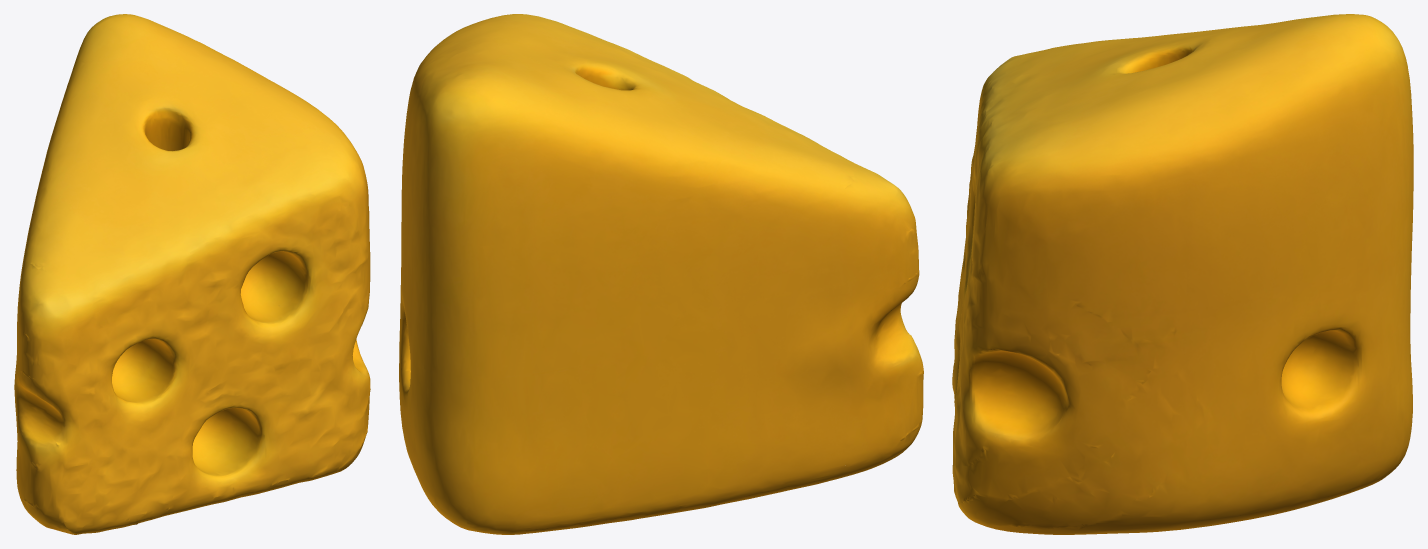
Rendered from cheese.glb.
3 renders of one model, left to right at view 1: azimuth 30°, elevation 25°; view 2: azimuth 150°, elevation 25°; view 3: azimuth 270°, elevation 25°, orthographic. The views are drawn at different scales.
Size of the model in its own units: 0.9802 by 0.9615 by 0.8692.
Materials: 1 (1 with a texture image).
